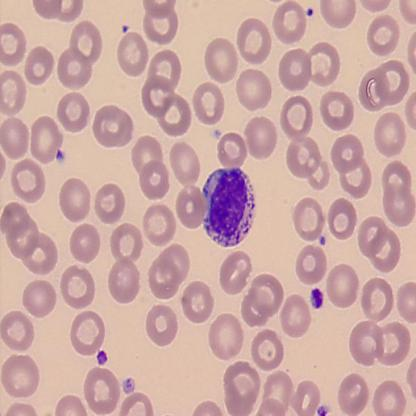Myelocyte: (205, 168, 258, 249)
